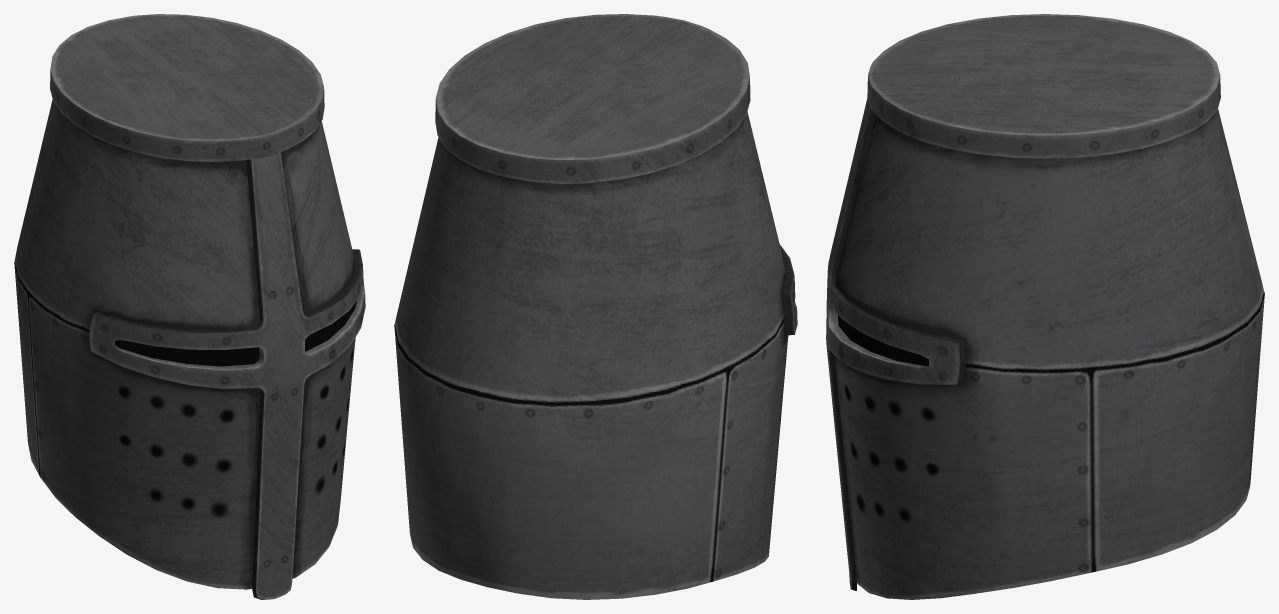
Rendered from great-helm.glb.
The picture shows the model from 3 angles, left to right: view 1: azimuth 30°, elevation 25°; view 2: azimuth 150°, elevation 25°; view 3: azimuth 270°, elevation 25°; orthographic projection. The views are drawn at different scales.
Visible parts, largest first — view 1: PIECE_great-helm; view 2: PIECE_great-helm; view 3: PIECE_great-helm.
Boxes of the visible parts, bbox=[...] form: PIECE_great-helm: bbox=[14, 14, 365, 599]; PIECE_great-helm: bbox=[394, 14, 797, 599]; PIECE_great-helm: bbox=[826, 14, 1264, 599].
Size of the model in its own units: 1 by 1.56 by 1.2.
1 material, 1 textured.
